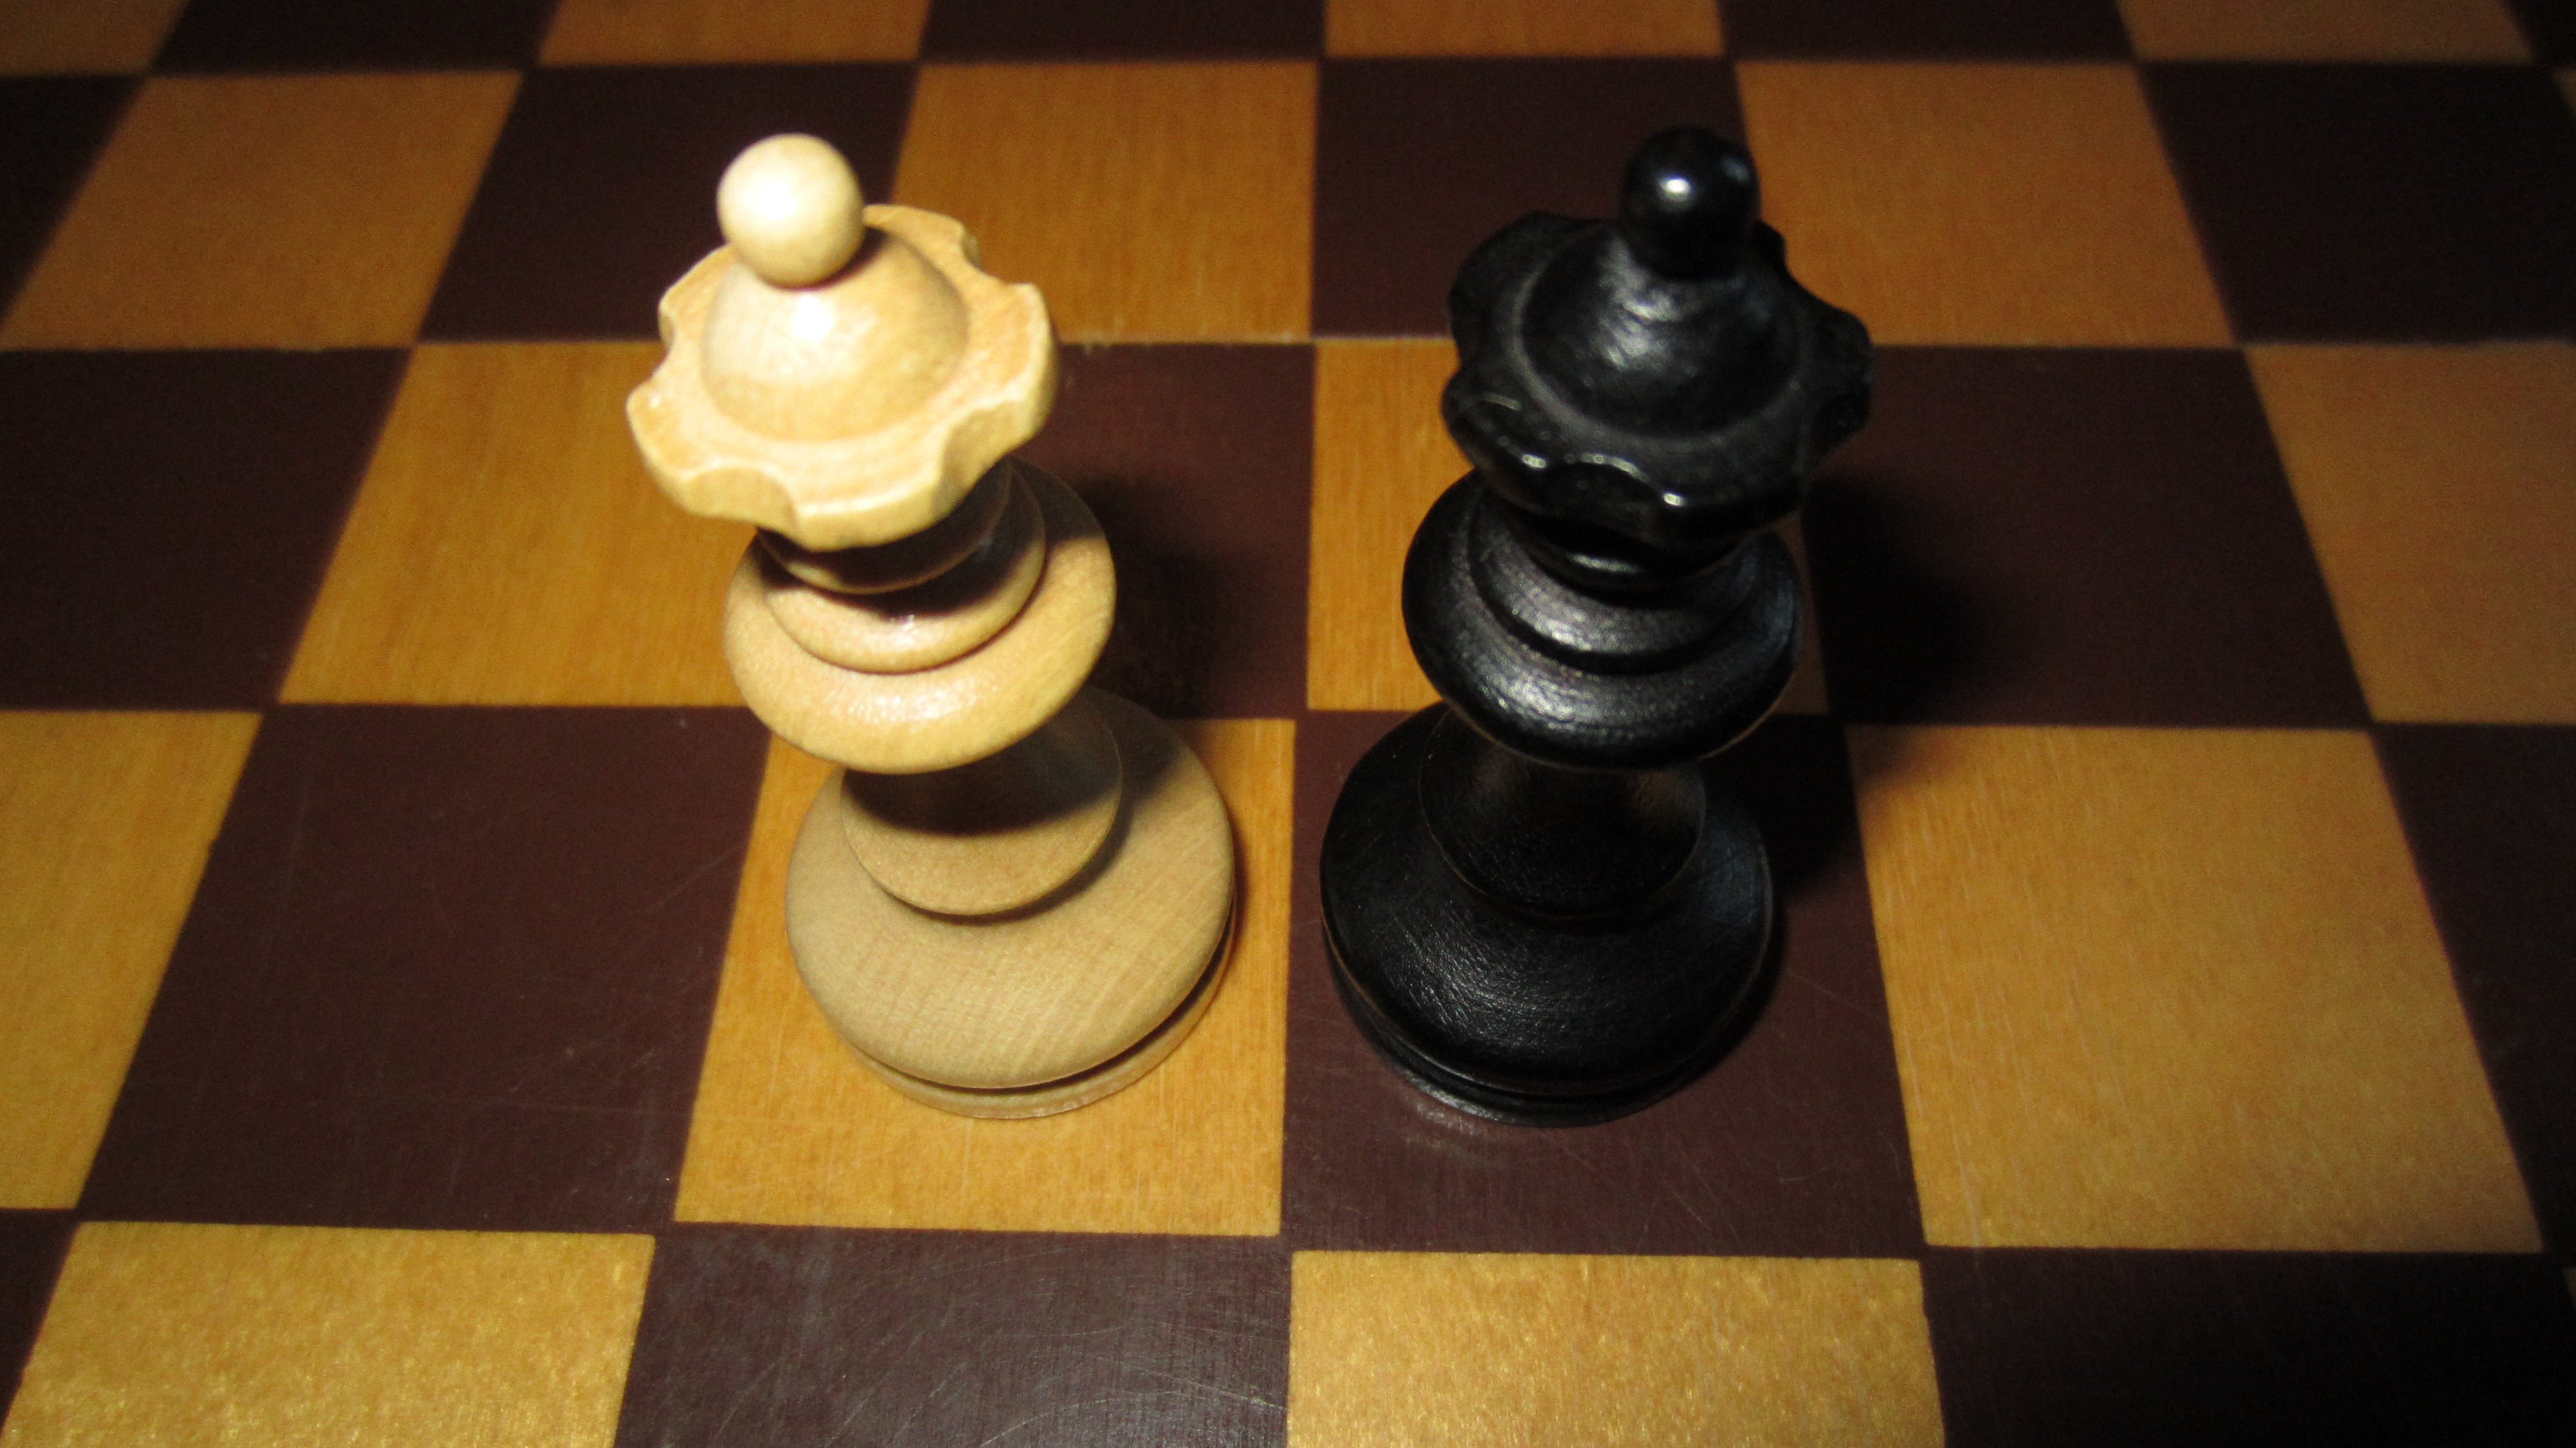black-queen: (1311, 127, 1888, 1126)
white-queen: (617, 120, 1249, 1129)
